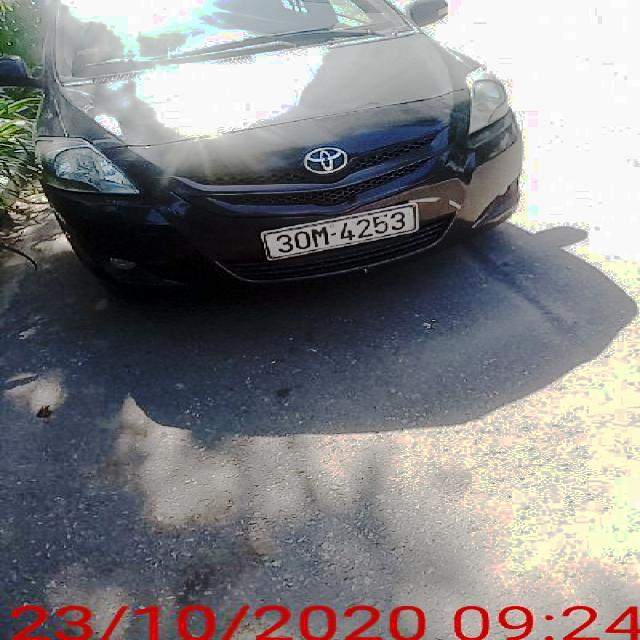license_plate: (263, 204, 417, 260)
